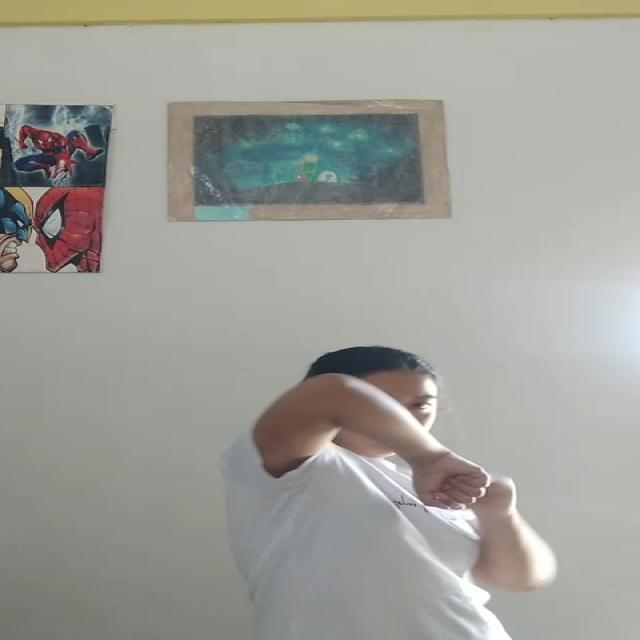7_mano_rostro: (309, 372, 438, 482)
